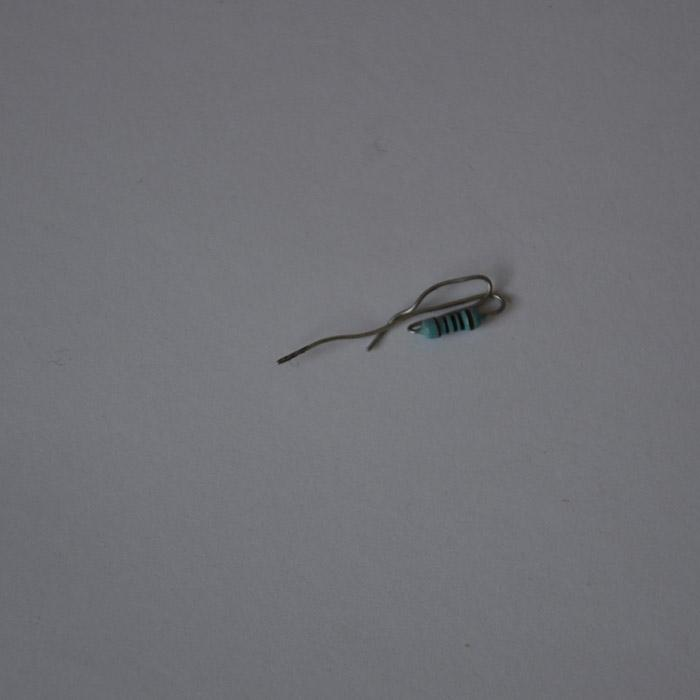resistor: (414, 305, 483, 339)
